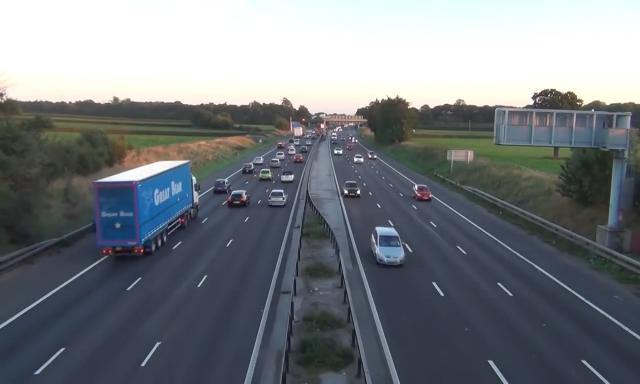caminhaog: (94, 160, 202, 258)
carro: (371, 225, 406, 267), (227, 190, 251, 208), (268, 189, 288, 207), (341, 180, 361, 198), (412, 184, 432, 202), (213, 178, 232, 193), (258, 168, 273, 182), (241, 162, 256, 174), (281, 171, 294, 182), (269, 158, 281, 168), (367, 150, 378, 160), (293, 154, 304, 164), (354, 154, 364, 164), (253, 156, 265, 164), (333, 148, 344, 156), (276, 152, 285, 160), (288, 148, 296, 155), (300, 146, 308, 153), (277, 142, 285, 148), (288, 143, 294, 150), (347, 144, 352, 150), (340, 136, 346, 141), (332, 140, 338, 144), (352, 139, 358, 143), (306, 141, 312, 145), (349, 136, 354, 140)
van: (330, 133, 338, 140)
